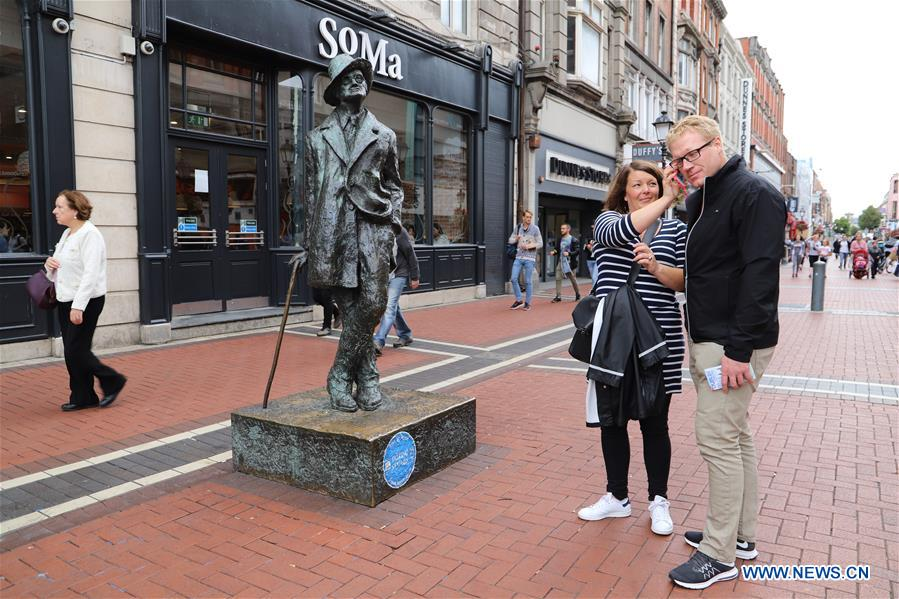person: (656, 110, 791, 590), (565, 156, 692, 539), (25, 188, 131, 416), (505, 209, 546, 310), (548, 221, 584, 303)
person-like: (287, 52, 408, 418)
